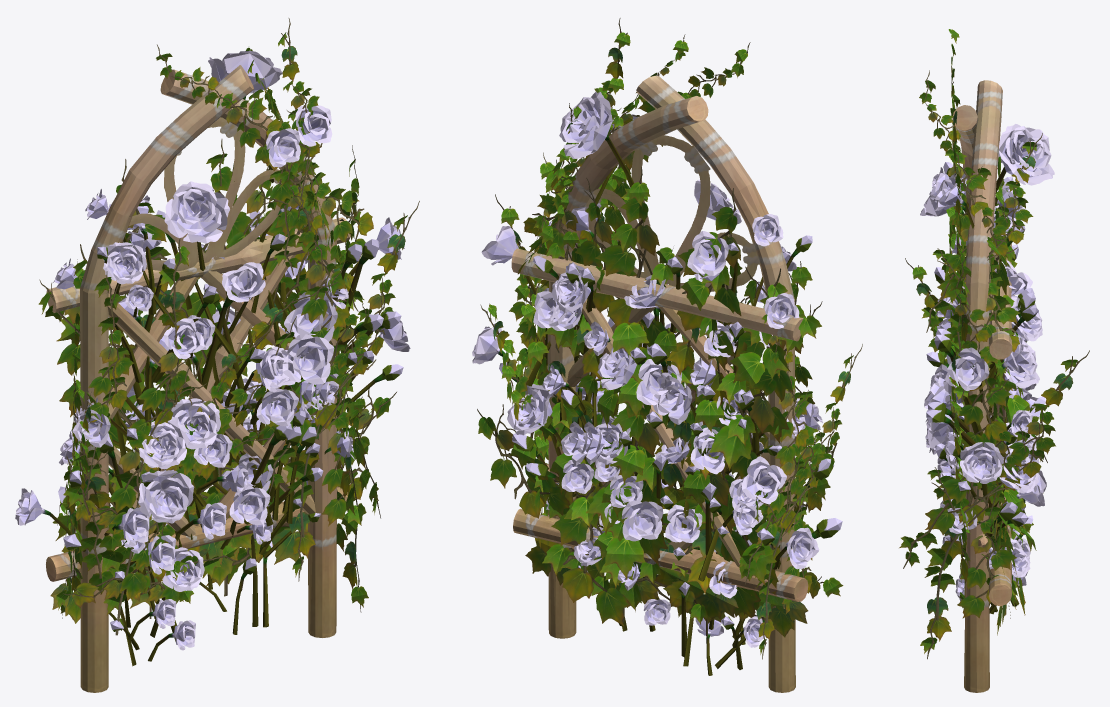
The model's file is P_Rosemuxiang03.obj.
3 views of the same model, side by side, from view 1: azimuth 30°, elevation 25°; view 2: azimuth 150°, elevation 25°; view 3: azimuth 270°, elevation 25° (orthographic). The views are drawn at different scales.
Size of the model in its own units: 2.26 by 3.65 by 1.11.
Materials: 156 (156 with a texture image).
